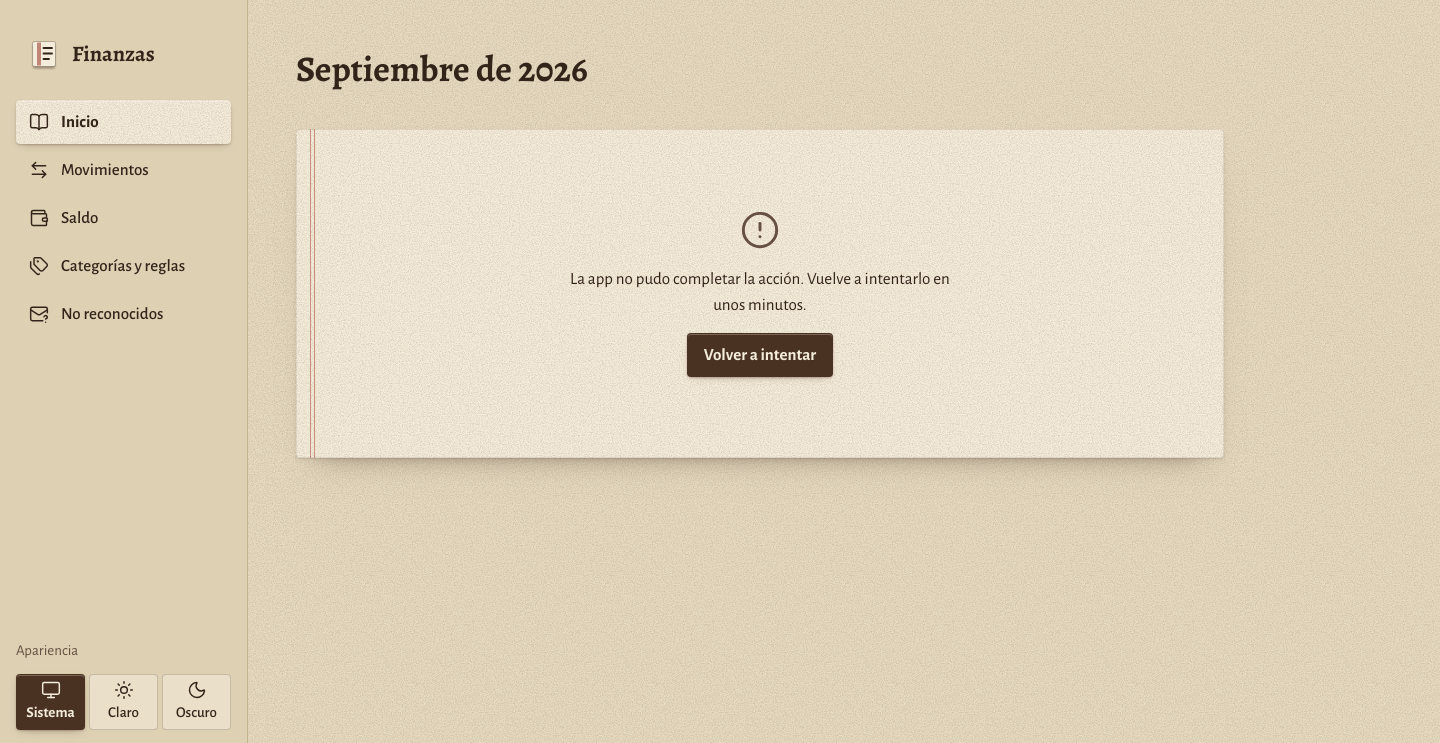
Test: Inicio: el reporte del mes › si la API falla, lo dice y deja volver a intentar
expect the message reads "La app no pudo completar la acción. Vuelve a intentarlo en unos minutos.": met, box left=570, top=270, right=950, bottom=313
Click the button "Volver a intentar" at [760, 355], box left=687, top=333, right=833, bottom=377
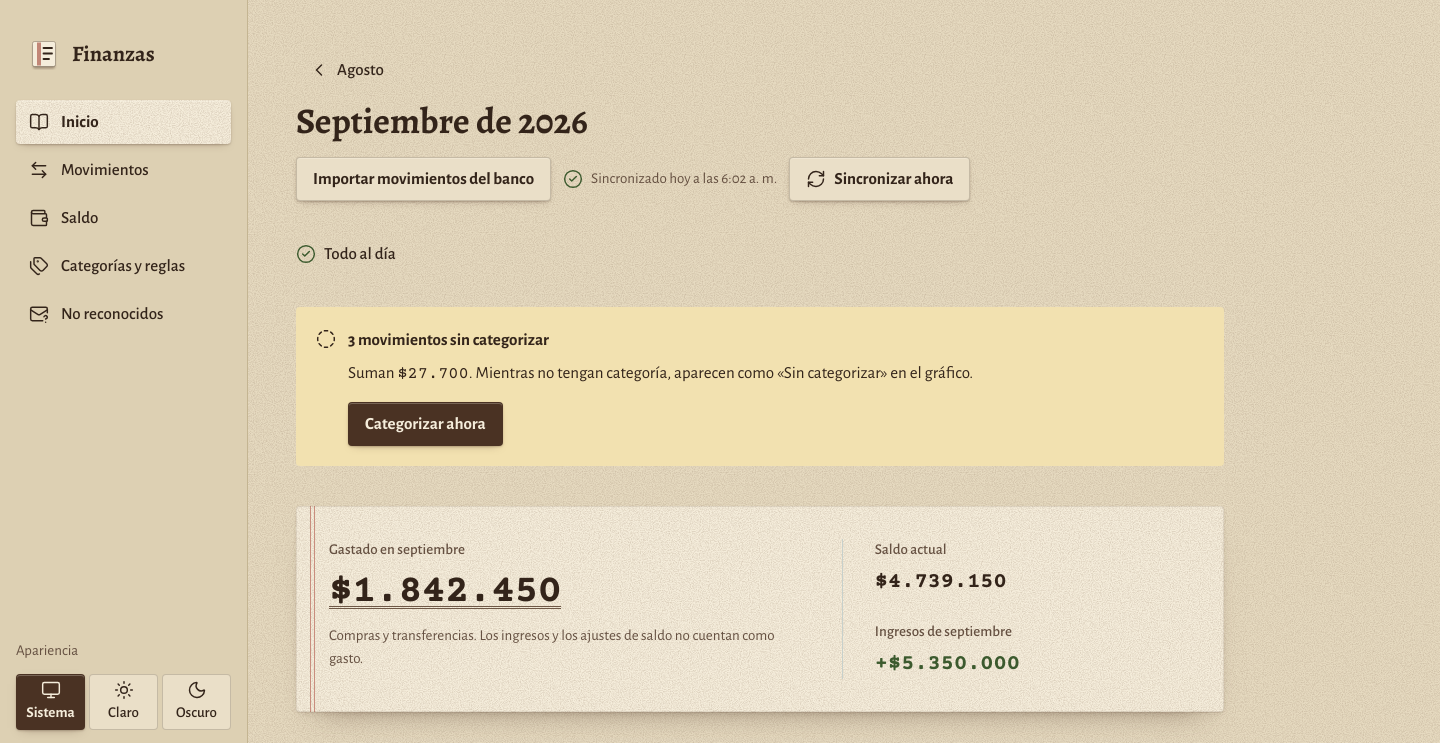
expect the element named "Resumen de septiembre" is shown: met, box left=296, top=506, right=1224, bottom=712
